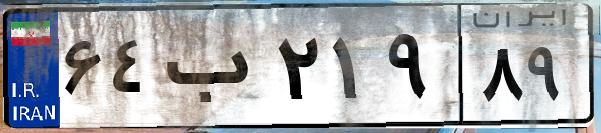1: (330, 28, 385, 110)
2: (270, 28, 330, 110)
4: (110, 28, 158, 98)
6: (57, 26, 110, 100)
8: (475, 38, 525, 113)
9: (385, 28, 445, 110), (525, 38, 570, 115)
ب: (158, 20, 270, 120)
